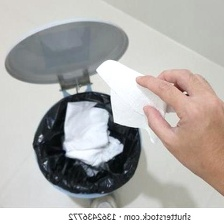tissue: (92, 56, 182, 148), (57, 95, 128, 171)
